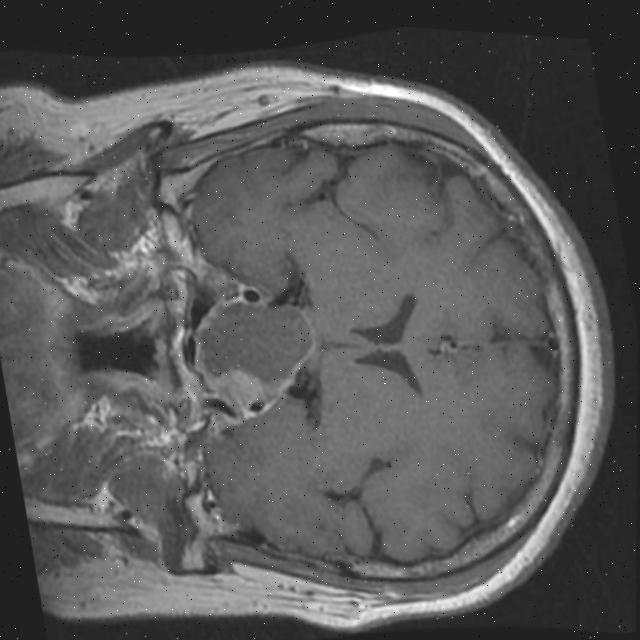Pituitary: (184, 281, 323, 413)
